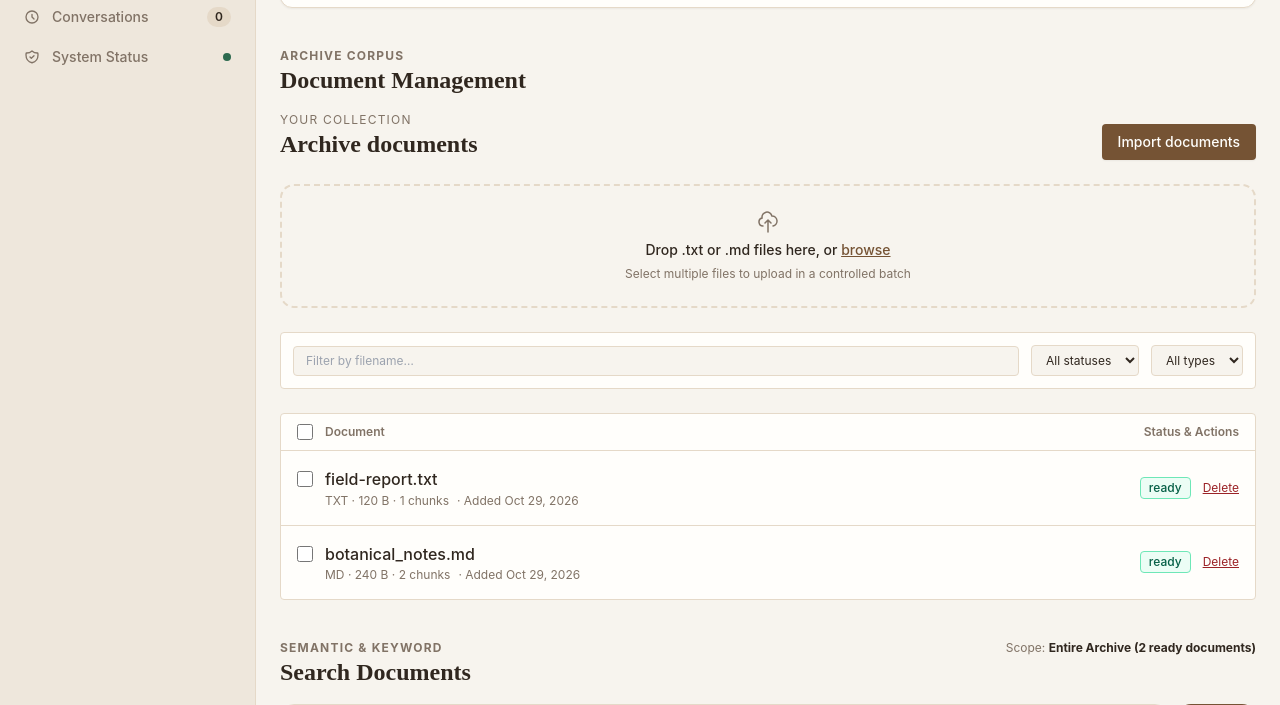
ArchiveWorkspace › filters documents by filename, status, and file type
(page scrolled)
Check: the text "field-report.txt" is shown, box [325,469,438,489]
Check: the text "botanical_notes.md" is shown, box [325,544,475,564]
Note: Filter by filename
Type "botanical" into the field with placeholder "Filter by filename…" at (656, 360), box [293,346,1019,376]
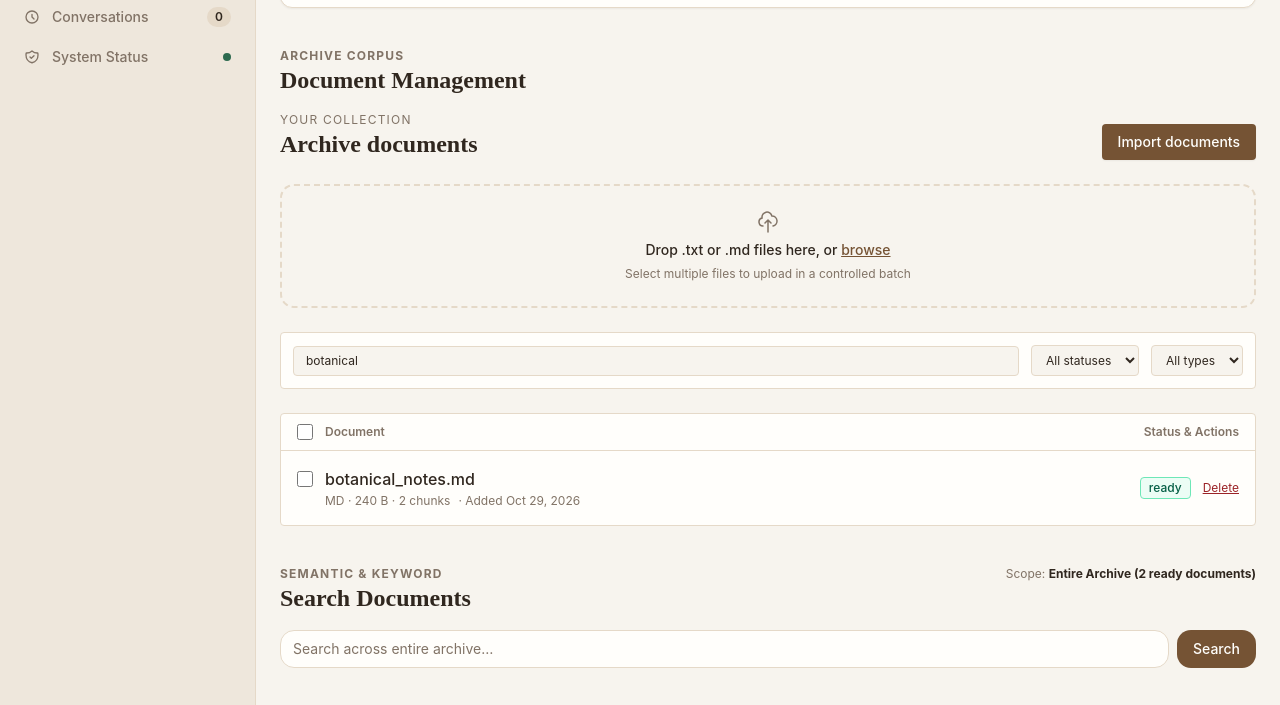
Check: the text "botanical_notes.md" is shown, box [325,469,475,489]
Check: the text "field-report.txt" is gone
Note: Reset filter
Clear the field with placeholder "Filter by filename…" at (656, 360), box [293,346,1019,376]
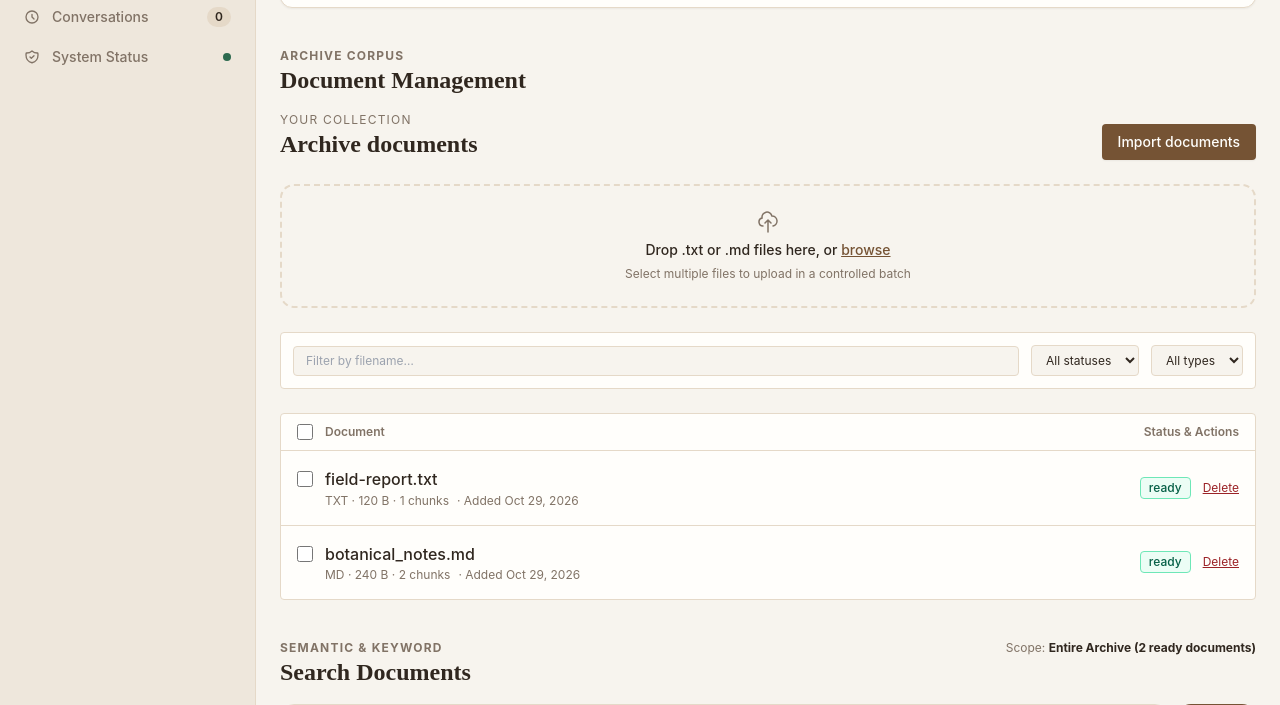
Check: the text "field-report.txt" is shown, box [325,469,438,489]
Note: Filter by file type
Select ".txt" in the 2nd dropdown named "Filter by file type" at (1197, 360), box [1151,345,1243,376]
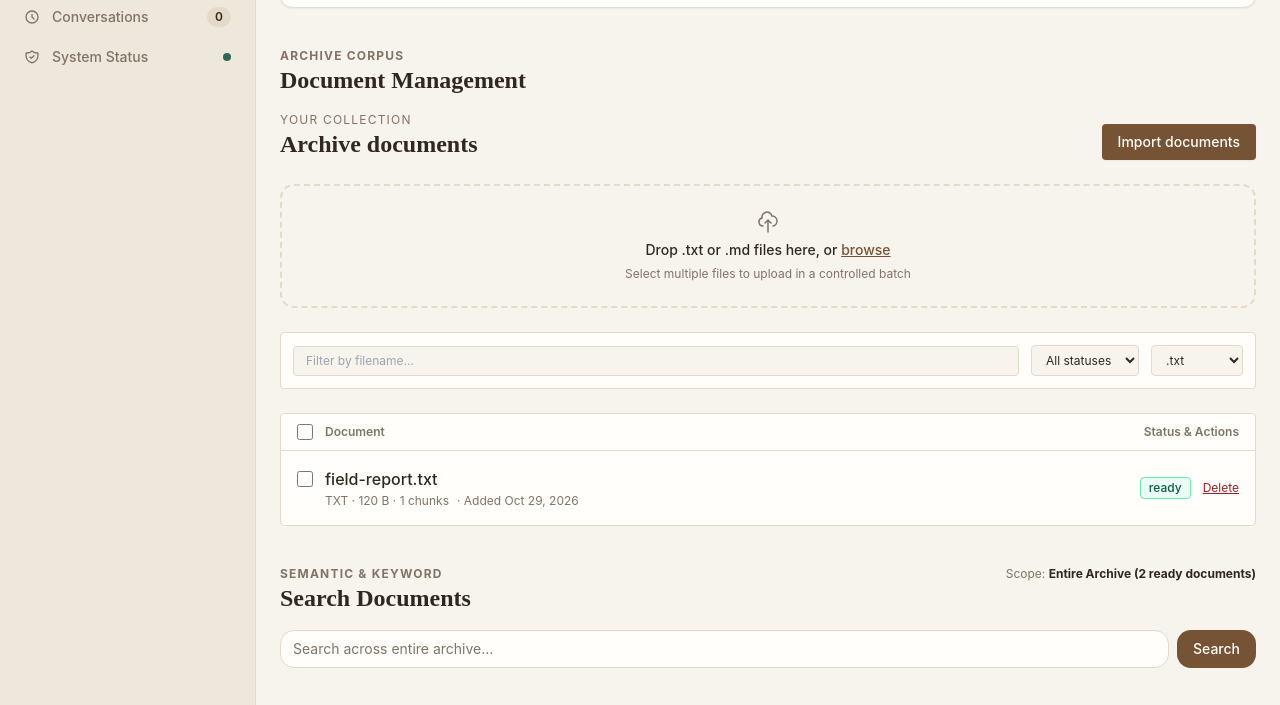
Check: the text "field-report.txt" is shown, box [325,469,438,489]
Check: the text "botanical_notes.md" is gone
